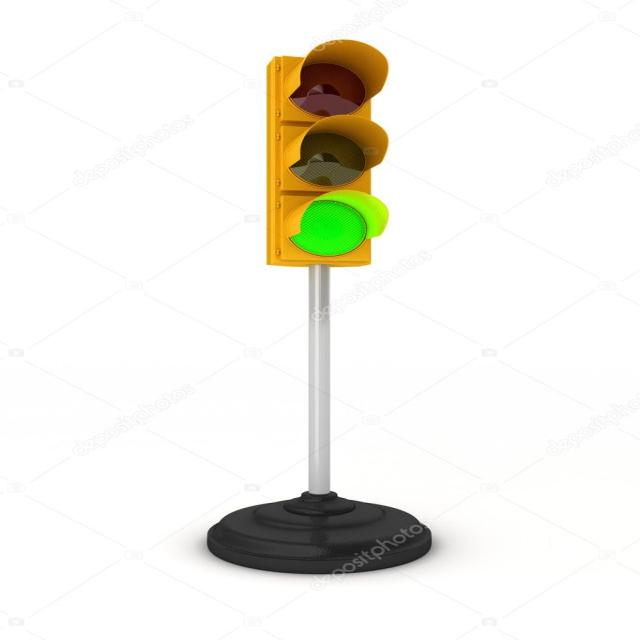green: (288, 196, 377, 257)
